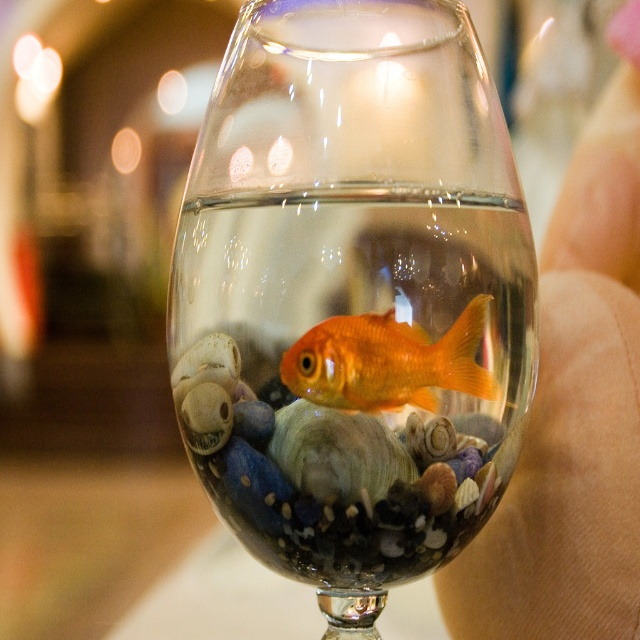Goldfish: (246, 286, 533, 459)
